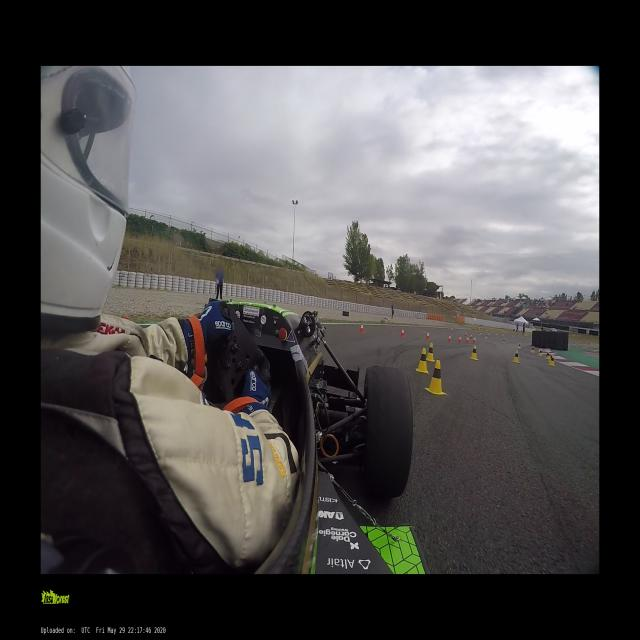orange_cone: (358, 323, 364, 334), (400, 328, 404, 338), (457, 336, 462, 344), (426, 331, 430, 340), (447, 335, 451, 343), (465, 337, 469, 343), (472, 337, 476, 343), (469, 335, 472, 340), (464, 332, 467, 336)
yellow_cone: (425, 361, 447, 396), (414, 347, 429, 374), (424, 342, 435, 362), (468, 346, 478, 360), (512, 350, 520, 363), (548, 355, 555, 367), (545, 352, 551, 360), (548, 354, 554, 362), (538, 349, 543, 357), (530, 346, 534, 352), (517, 343, 521, 349), (502, 338, 506, 343), (484, 335, 488, 339), (479, 330, 482, 334), (478, 331, 480, 335), (488, 331, 490, 335)
